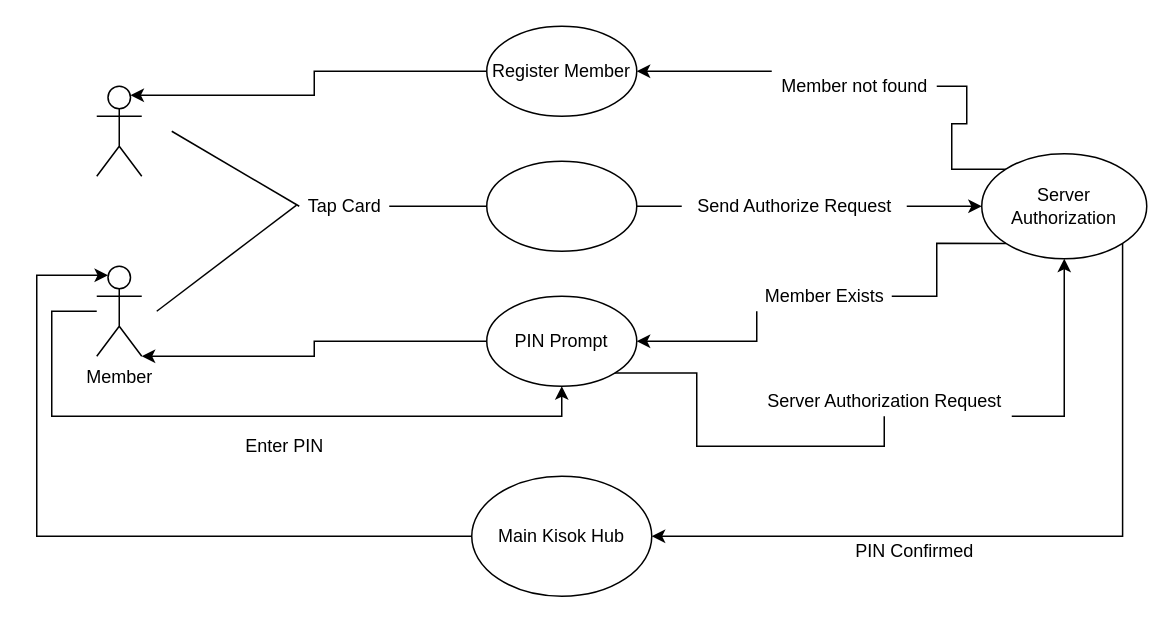
This 1173x623 diagram has some shape labels left out. The centre of each missing label's shape, as x and y in pixels:
Kiosk Authorization: (561,205)
New Member: (118,130)
